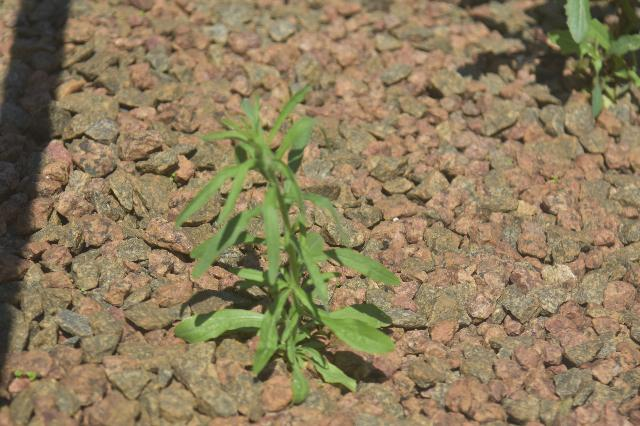MalezaMontesDelPlata: (166, 74, 405, 415), (545, 1, 640, 124)
